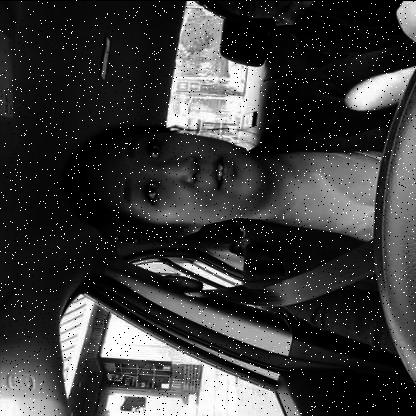seatbelt: (51, 119, 392, 310)
